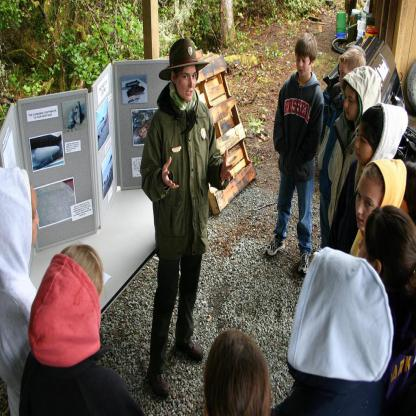face: (357, 182, 383, 231), (355, 226, 377, 277), (23, 185, 40, 248), (176, 64, 197, 102), (357, 130, 376, 166), (346, 87, 362, 120), (296, 50, 312, 76), (339, 63, 353, 92)
